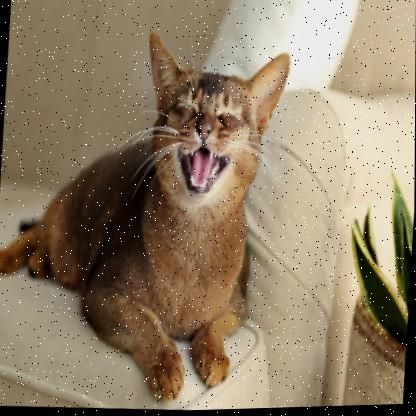cat: (31, 42, 291, 289)
